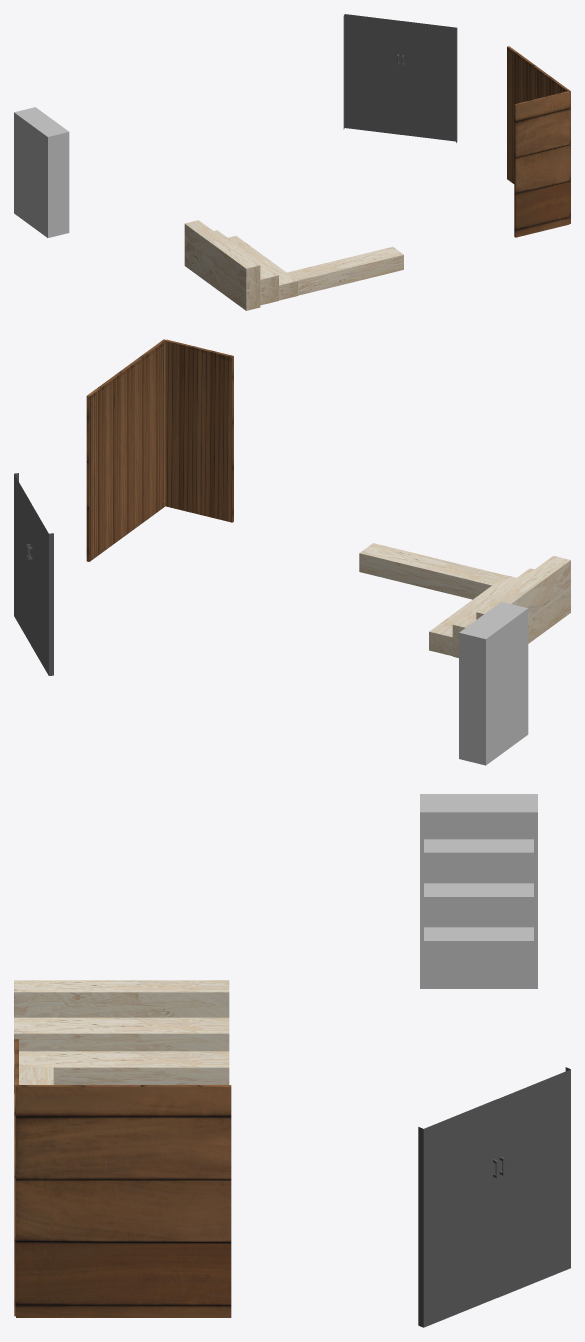
Rendered from Inter_1.fbx.
3 views of the same model, one above another, from view 1: azimuth 30°, elevation 25°; view 2: azimuth 150°, elevation 25°; view 3: azimuth 270°, elevation 25° (orthographic). The views are drawn at different scales.
Visible parts, largest first — view 1: Front.003, Door, Door.001, Object_4, Front.004, Front.002, Front.007, Front.006, Front.005; view 2: Front.002, Front.003, Object_4, Front.007, Front.004, Door, Door.001, Front.006, Front.005; view 3: Front.002, Object_4, Door.001, Door, Front.004, Front.005, Front.006, Object_5.001, Front.003.
Boxes of the visible parts, box(x1,y1,x2,y2) form: Front.003: box(514, 91, 569, 237); Door: box(343, 14, 400, 134); Door.001: box(401, 21, 457, 142); Object_4: box(14, 107, 69, 237); Front.004: box(184, 220, 260, 310); Front.002: box(507, 46, 570, 223); Front.007: box(287, 246, 403, 295); Front.006: box(228, 235, 297, 300); Front.005: box(214, 230, 278, 305); Front.002: box(86, 339, 165, 561); Front.003: box(165, 339, 233, 522); Object_4: box(459, 602, 528, 765); Front.007: box(359, 543, 505, 599); Front.004: box(476, 556, 570, 643); Door: box(28, 504, 53, 675); Door.001: box(14, 473, 31, 645); Front.006: box(429, 575, 516, 656); Front.005: box(452, 568, 534, 657); Front.002: box(16, 1085, 231, 1317); Object_4: box(420, 794, 537, 988); Door.001: box(418, 1099, 498, 1327); Door: box(497, 1067, 570, 1297); Front.004: box(14, 980, 229, 1017); Front.005: box(14, 1017, 229, 1051); Front.006: box(14, 1051, 229, 1093); Object_5.001: box(424, 948, 533, 984); Front.003: box(14, 1039, 18, 1316).
Bounding box in the file's own units: 9043 × 2945 × 6091.
